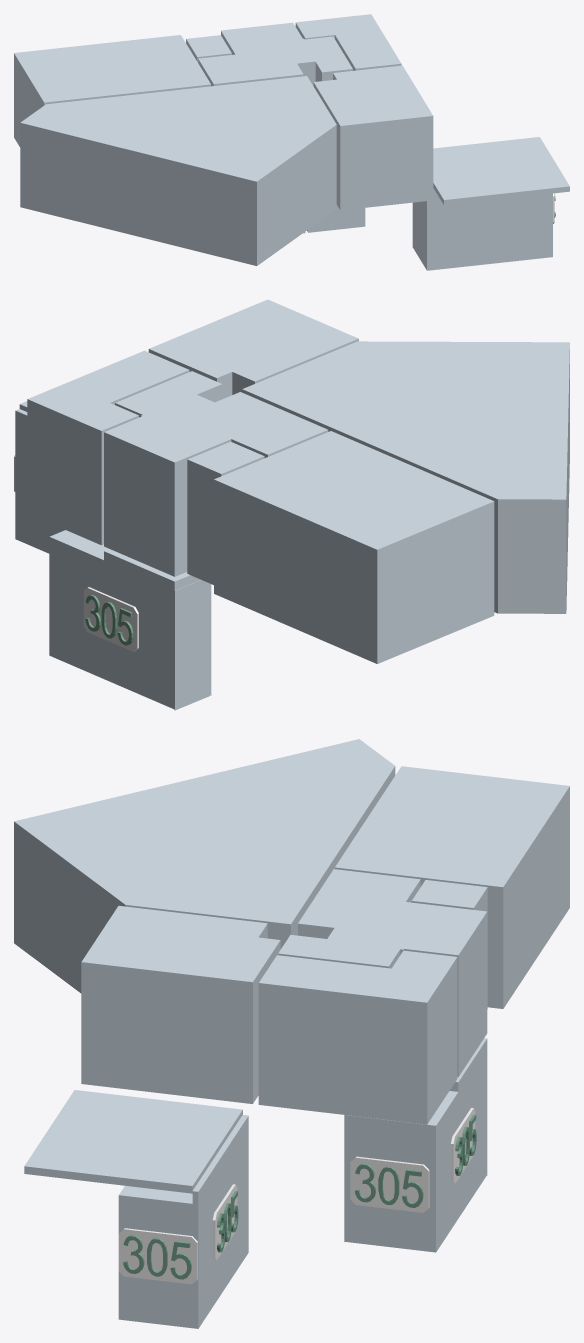
The picture shows the model from 3 angles, top to bottom: view 1: azimuth 30°, elevation 25°; view 2: azimuth 150°, elevation 25°; view 3: azimuth 270°, elevation 25°; orthographic projection. The views are drawn at different scales.
Visible parts, largest first — view 1: g_2, g_7, g_3, g_1, g_10, g_4, g_6, g_8, g_0, g_5; view 2: g_3, g_2, g_6, g_9, g_8, g_7, g_4, g_0, g_5, g_1, g_26; view 3: g_2, g_7, g_6, g_3, g_10, g_1, g_0, g_4, g_8, g_9, g_14, g_18 (+1 smaller).
Part boxes in pixels (x1=…): g_2: x1=20, y1=76, x2=336, y2=265; g_7: x1=313, y1=65, x2=433, y2=210; g_3: x1=14, y1=35, x2=210, y2=147; g_1: x1=412, y1=188, x2=552, y2=270; g_10: x1=433, y1=137, x2=569, y2=205; g_4: x1=198, y1=36, x2=352, y2=86; g_6: x1=295, y1=14, x2=401, y2=70; g_8: x1=221, y1=22, x2=302, y2=51; g_0: x1=307, y1=205, x2=365, y2=232; g_5: x1=186, y1=35, x2=231, y2=62; g_3: x1=214, y1=431, x2=494, y2=663; g_2: x1=242, y1=341, x2=569, y2=613; g_6: x1=27, y1=350, x2=189, y2=545; g_9: x1=87, y1=546, x2=211, y2=710; g_8: x1=104, y1=416, x2=214, y2=576; g_7: x1=148, y1=299, x2=358, y2=398; g_4: x1=115, y1=371, x2=328, y2=457; g_0: x1=49, y1=530, x2=103, y2=671; g_5: x1=187, y1=441, x2=264, y2=584; g_1: x1=15, y1=409, x2=64, y2=553; g_26: x1=83, y1=587, x2=138, y2=651; g_2: x1=14, y1=739, x2=395, y2=993; g_7: x1=81, y1=905, x2=280, y2=1103; g_6: x1=258, y1=950, x2=457, y2=1124; g_3: x1=335, y1=766, x2=569, y2=1008; g_10: x1=24, y1=1090, x2=242, y2=1193; g_1: x1=118, y1=1114, x2=248, y2=1328; g_0: x1=344, y1=1101, x2=451, y2=1252; g_4: x1=278, y1=869, x2=428, y2=968; g_8: x1=404, y1=904, x2=487, y2=1077; g_9: x1=443, y1=1038, x2=487, y2=1228; g_14: x1=118, y1=1228, x2=197, y2=1284; g_18: x1=350, y1=1156, x2=429, y2=1212.
Bounding box in the file's own units: 13.82 × 5.2 × 9.92.
